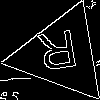R: (36, 29, 82, 81)
